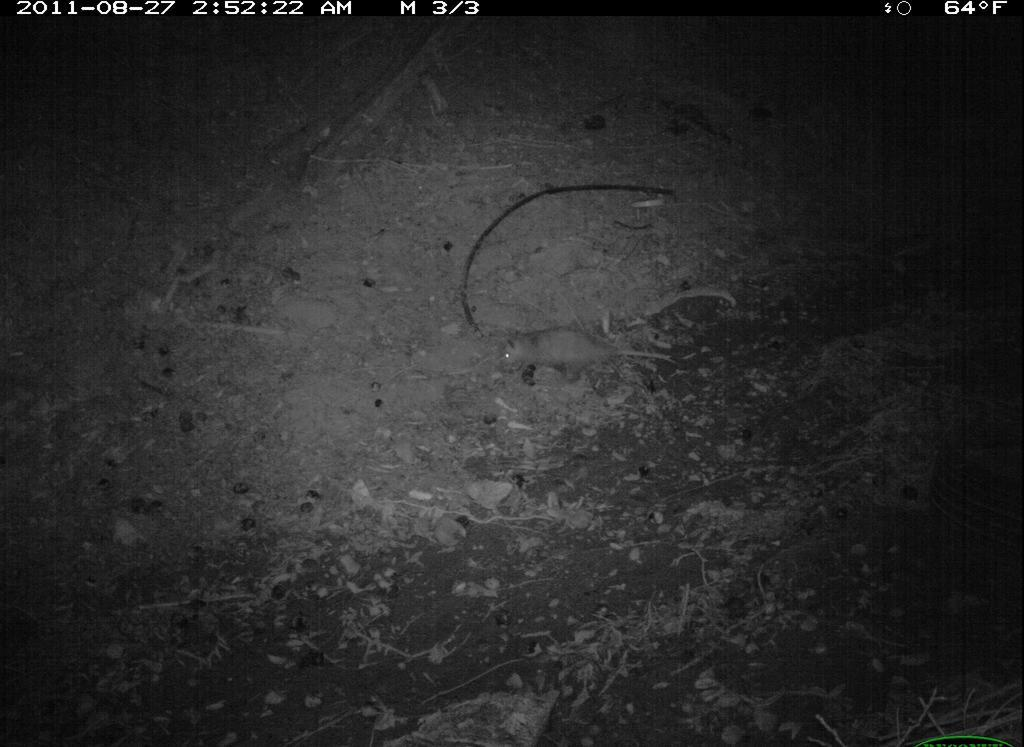opossum: (493, 318, 684, 401)
